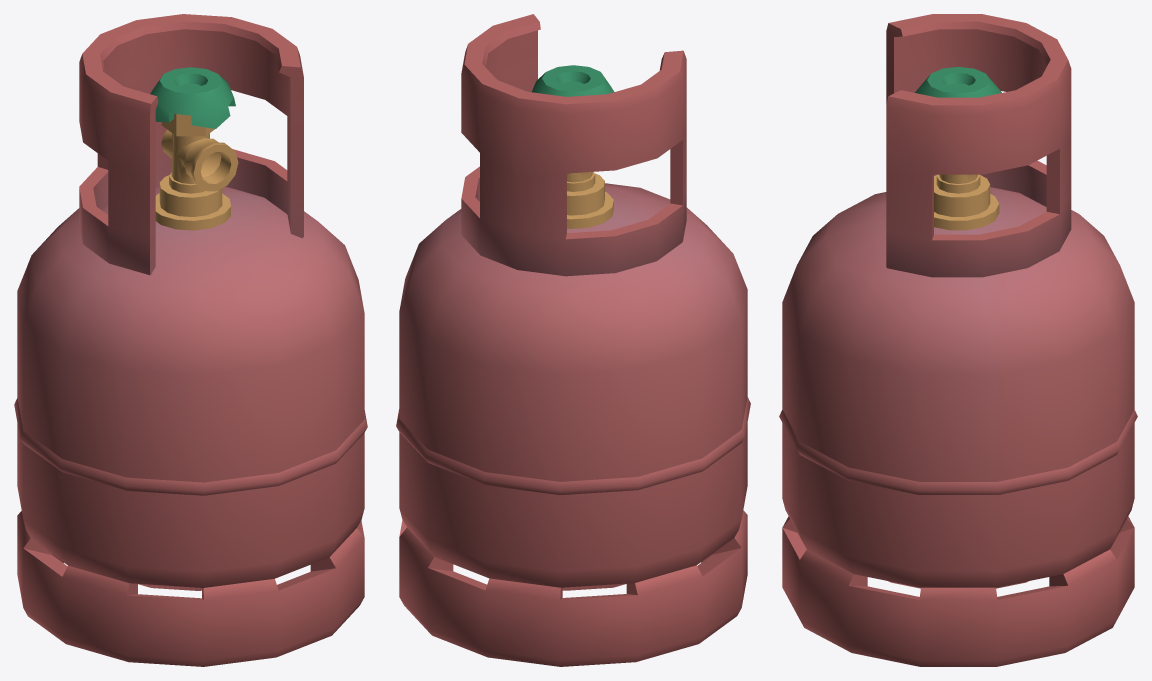
The model's file is GasCyclinder_01.fbx.
3 renders of one model, left to right at view 1: azimuth 30°, elevation 25°; view 2: azimuth 150°, elevation 25°; view 3: azimuth 270°, elevation 25°, orthographic.
Parts seen in each view (by area): view 1: GasCyclinder_01; view 2: GasCyclinder_01; view 3: GasCyclinder_01.
Part boxes in pixels (<box>): GasCyclinder_01: <box>14,14,367,666</box>; GasCyclinder_01: <box>396,14,750,666</box>; GasCyclinder_01: <box>779,14,1137,666</box>.
Size of the model in its own units: 2.43 by 4.11 by 2.49.
